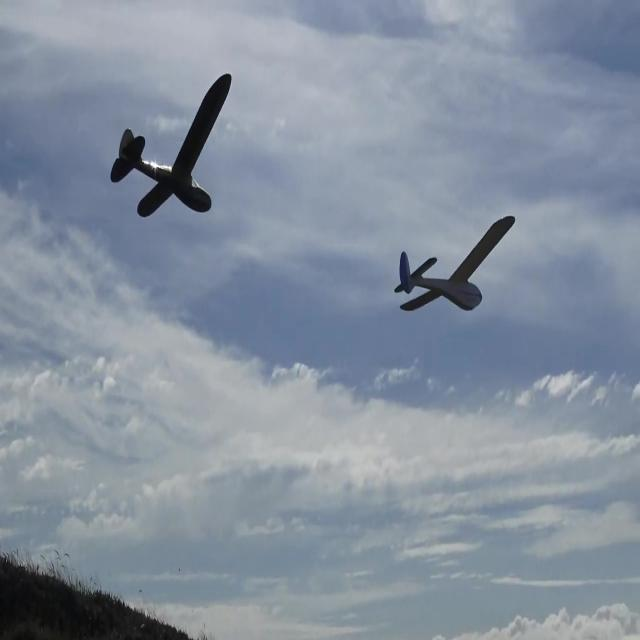iha: (141, 71, 203, 219), (425, 240, 483, 276)
